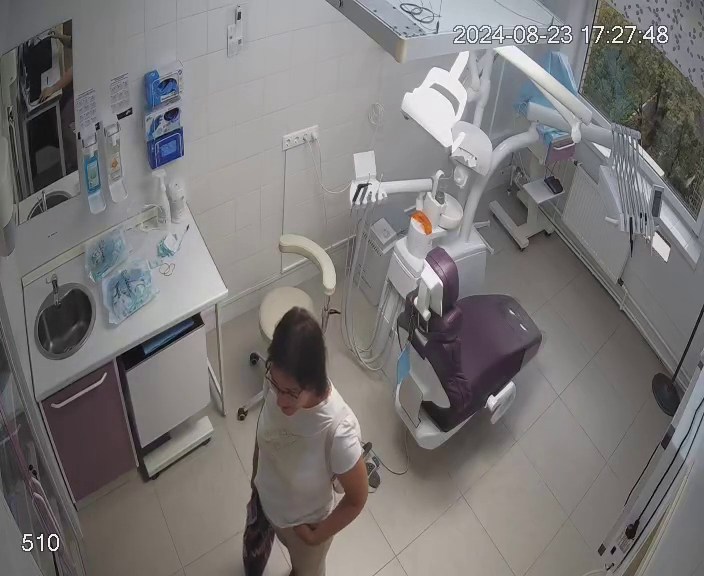Empty: (371, 245, 548, 453)
